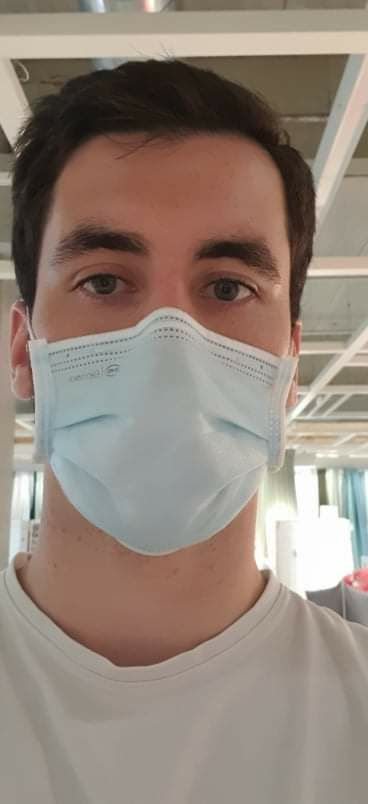with_mask: (17, 114, 314, 555)
